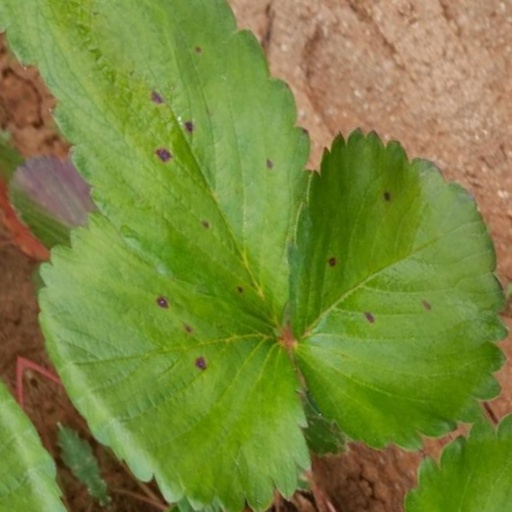Leaf Spot: (225, 191, 474, 511), (21, 129, 241, 483), (143, 0, 372, 336)
